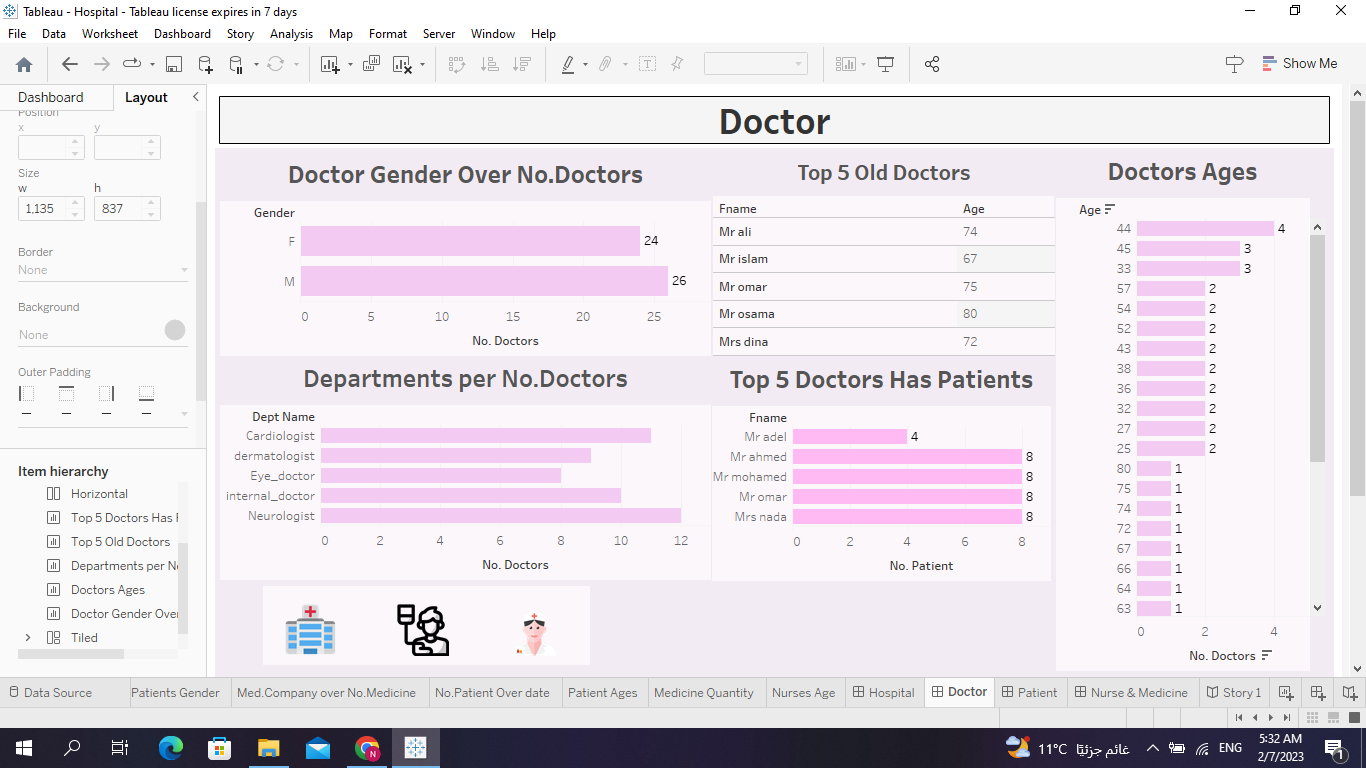

The page's visual inventory and layout, read from the dashboard file:
{"tool":"tableau","page":{"name":"Doctor","canvas":[1135,837],"ordinal":0},"visuals":[{"type":"title","box":[8,8,1119,56]},{"type":"worksheet","title":"Doctors Ages","mark":"Automatic","rows":["Age"],"cols":["Calculation_326792508522778624"],"box":[849,66,270,521]},{"type":"worksheet","title":"Doctor Gender Over No.Doctors","mark":"Automatic","rows":["Gender"],"cols":["Calculation_326792508522778624"],"box":[13,69,491,203]},{"type":"worksheet","title":"Top 5 Old Doctors","mark":"Automatic","rows":["Fname","Age"],"box":[506,69,342,203]},{"type":"worksheet","title":"Departments per No.Doctors","mark":"Automatic","rows":["Dept_Name"],"cols":["Calculation_326792508522778624"],"box":[13,273,491,237]},{"type":"worksheet","title":"Top 5 Doctors Has Patients","mark":"Automatic","rows":["Fname"],"cols":["Calculation_326792508525633538"],"box":[505,274,339,223]},{"type":"dashboard-object","box":[234,511,186,76]},{"type":"dashboard-object","box":[22,519,164,52]},{"type":"dashboard-object","box":[135,520,164,52]}]}

Visuals, with their boxes on the page's 1135x837 design canvas (x1, y1, x2, y2). These are canvas units, not pixel positions in the 1366x768 screenshot, which may show the page scaled, cropped or inside an application window:
title: [8, 8, 1127, 64]
"Doctors Ages" worksheet: [849, 66, 1119, 587]
"Doctor Gender Over No.Doctors" worksheet: [13, 69, 504, 272]
"Top 5 Old Doctors" worksheet: [506, 69, 848, 272]
"Departments per No.Doctors" worksheet: [13, 273, 504, 510]
"Top 5 Doctors Has Patients" worksheet: [505, 274, 844, 497]
dashboard-object: [234, 511, 420, 587]
dashboard-object: [22, 519, 186, 571]
dashboard-object: [135, 520, 299, 572]
